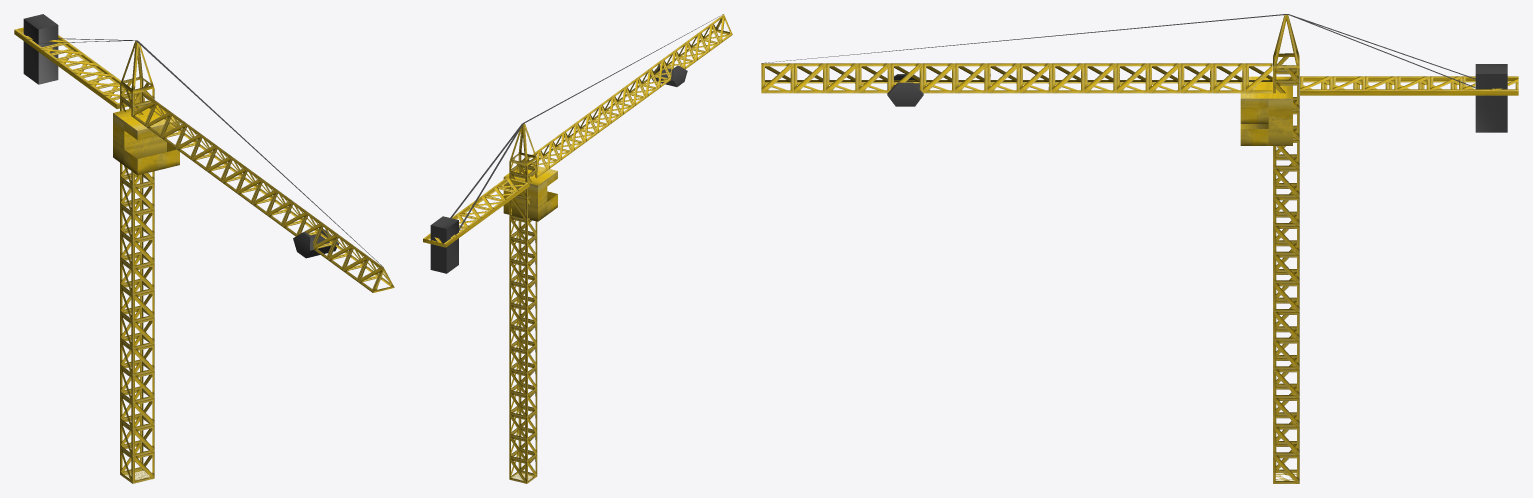
File: grue.fbx
3 renders of one model, left to right at view 1: azimuth 30°, elevation 25°; view 2: azimuth 150°, elevation 25°; view 3: azimuth 270°, elevation 25°, orthographic. The views are drawn at different scales.
Parts seen in each view (by area): view 1: Cube, Cube.001, Cube.003, Cube.002, Cube.004, Plane, Cube.005; view 2: Cube, Cube.001, Cube.003, Cube.002, Cube.004, Plane, Cube.005; view 3: Cube.001, Cube, Cube.002, Cube.003, Cube.004, Plane, Cube.005.
Part boxes in pixels (left/top/right/bottom): Cube: left=120, top=41, right=154, bottom=483; Cube.001: left=133, top=92, right=394, bottom=292; Cube.003: left=113, top=105, right=179, bottom=175; Cube.002: left=14, top=27, right=144, bottom=108; Cube.004: left=23, top=14, right=58, bottom=84; Plane: left=39, top=38, right=382, bottom=266; Cube.005: left=293, top=228, right=339, bottom=258; Cube: left=509, top=123, right=537, bottom=483; Cube.001: left=521, top=14, right=732, bottom=177; Cube.003: left=503, top=165, right=557, bottom=221; Cube.002: left=423, top=177, right=529, bottom=247; Cube.004: left=430, top=216, right=458, bottom=273; Plane: left=450, top=14, right=723, bottom=230; Cube.005: left=650, top=65, right=687, bottom=86; Cube.001: left=761, top=63, right=1272, bottom=93; Cube: left=1273, top=15, right=1299, bottom=483; Cube.002: left=1300, top=76, right=1518, bottom=95; Cube.003: left=1240, top=76, right=1292, bottom=145; Cube.004: left=1475, top=64, right=1507, bottom=132; Plane: left=762, top=14, right=1475, bottom=87; Cube.005: left=887, top=74, right=923, bottom=106.
Bounding box in the file's own units: 390 × 3813 × 5646.
